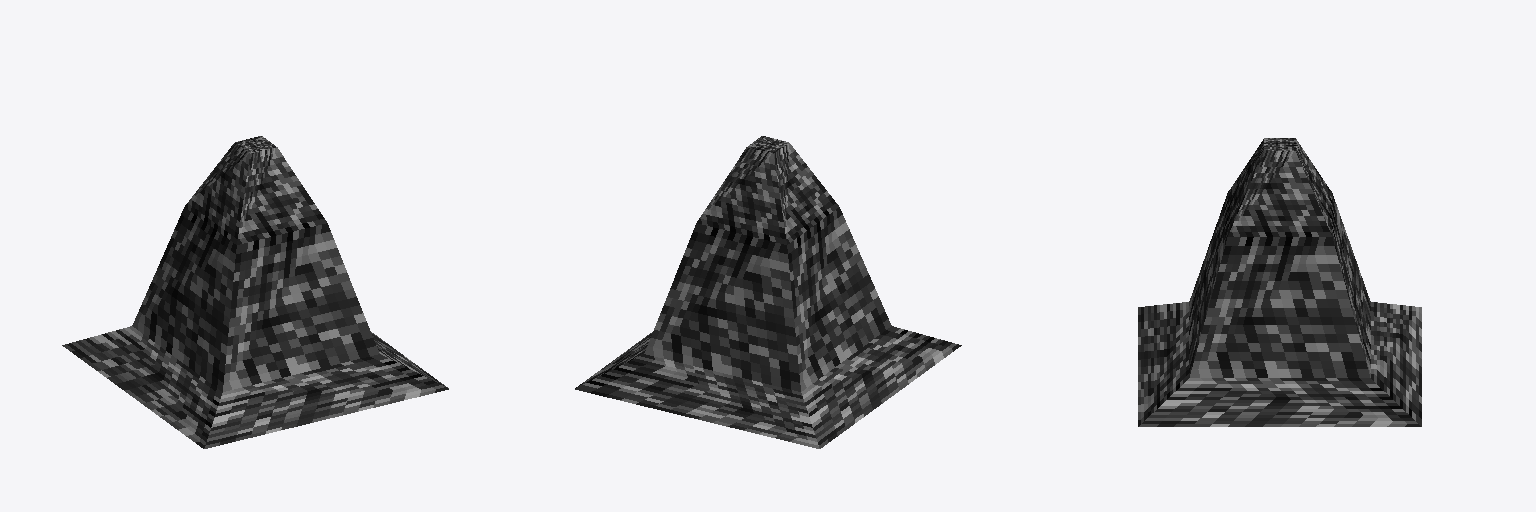
The picture shows the model from 3 angles: view 1: azimuth 30°, elevation 25°; view 2: azimuth 150°, elevation 25°; view 3: azimuth 270°, elevation 25°; orthographic projection.
Visible parts, largest first — view 1: Cube; view 2: Cube; view 3: Cube.
Boxes of the visible parts, x1,y1,x2,y2 form: Cube: [62, 136, 448, 448]; Cube: [575, 136, 961, 448]; Cube: [1138, 138, 1421, 426].
Size of the model in its own units: 2 by 1.73 by 2.
Materials: 1 (1 with a texture image).